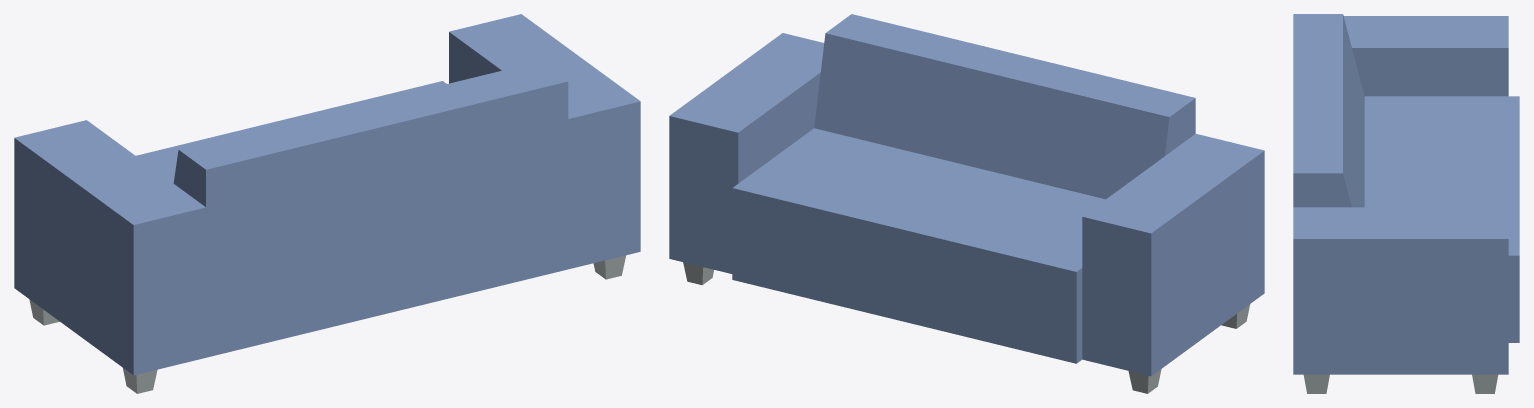
Rendered from sofa-3seat.glb.
The picture shows the model from 3 angles, left to right: view 1: azimuth 30°, elevation 25°; view 2: azimuth 150°, elevation 25°; view 3: azimuth 270°, elevation 25°; orthographic projection. The views are drawn at different scales.
Visible parts, largest first — view 1: sofa-3seat; view 2: sofa-3seat; view 3: sofa-3seat.
Boxes of the visible parts, <box> form: sofa-3seat: <box>14,14,640,393</box>; sofa-3seat: <box>669,14,1264,393</box>; sofa-3seat: <box>1293,14,1519,393</box>.
Size of the model in its own units: 2.1 by 0.85 by 0.9.
